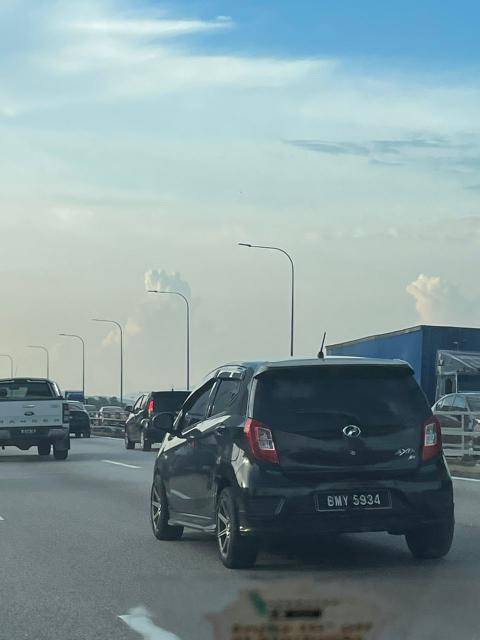License_Plate: (314, 490, 392, 514)
car: (138, 348, 456, 566), (10, 373, 71, 466)
